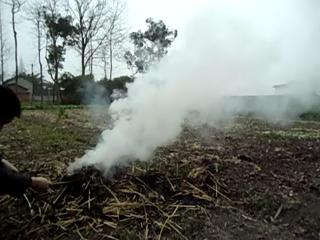yanwu: (72, 17, 262, 167)
